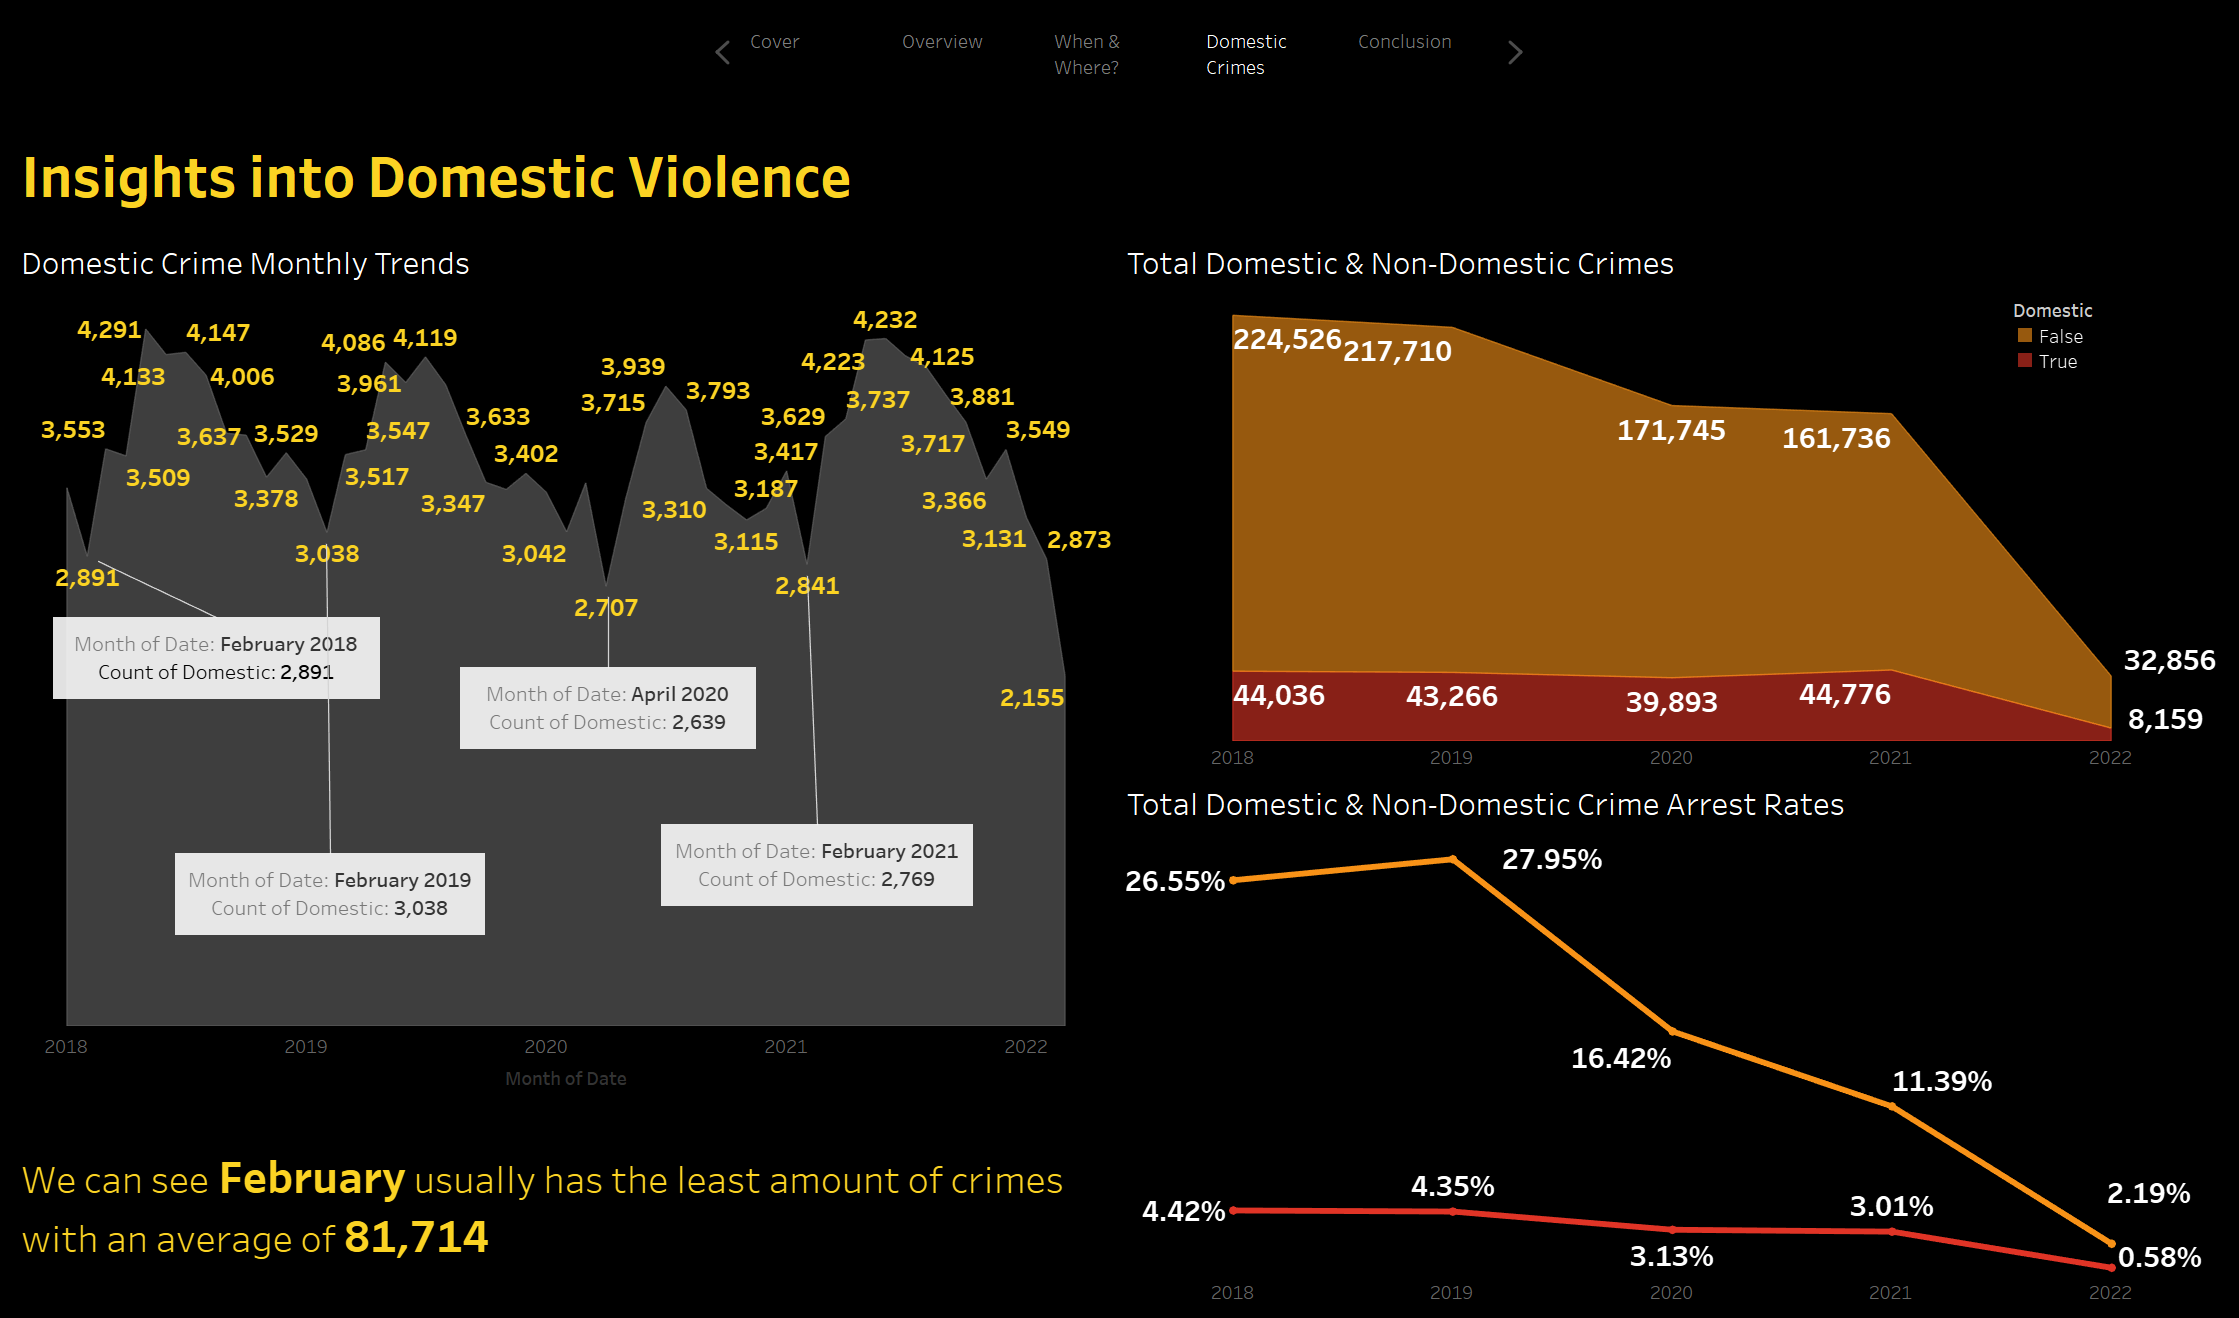

Layout of this report page (visuals, bound fields, positions):
{"tool":"tableau","page":{"name":"Dashboard 4 - Domestic Crimes","canvas":[1000,1000],"units":"permille","ordinal":3},"visuals":[{"type":"text","box":[3.6,6,992.9,96.5]},{"type":"worksheet","title":"Monthly Domestic","mark":"Area","rows":["Domestic"],"cols":["Date"],"box":[3.6,102.6,496.4,718.7]},{"type":"worksheet","title":"Domestic vs Non-Domestic","mark":"Area","rows":["Primary Type"],"cols":["Date"],"box":[500,102.6,496.4,448.3]},{"type":"legend","title":"Domestic vs Non-Domestic","param":"[federated.0bcf6931kgr7i8170d84p06qc0ob].[none:Domestic:nk]","box":[901.1,156.1,80.2,77.7]},{"type":"worksheet","title":"Domestic Arrest %","mark":"Line","rows":["Arrest"],"cols":["Date"],"box":[500,550.9,496.4,443.1]},{"type":"worksheet","title":"Lowest Crime Text","mark":"Automatic","box":[3.6,821.3,496.4,172.7]}]}

Visuals, with their boxes on the dashboard's canvas, which has no fixed pixel size, in thousandths of its width and height (x1, y1, x2, y2). These are canvas units, not pixel positions in the 2239x1318 screenshot, which may show the page scaled, cropped or inside an application window:
text: <region>4, 6, 996, 102</region>
"Monthly Domestic" worksheet (Area marks): <region>4, 103, 500, 821</region>
"Domestic vs Non-Domestic" worksheet (Area marks): <region>500, 103, 996, 551</region>
"Domestic vs Non-Domestic" legend: <region>901, 156, 981, 234</region>
"Domestic Arrest %" worksheet (Line marks): <region>500, 551, 996, 994</region>
"Lowest Crime Text" worksheet: <region>4, 821, 500, 994</region>
